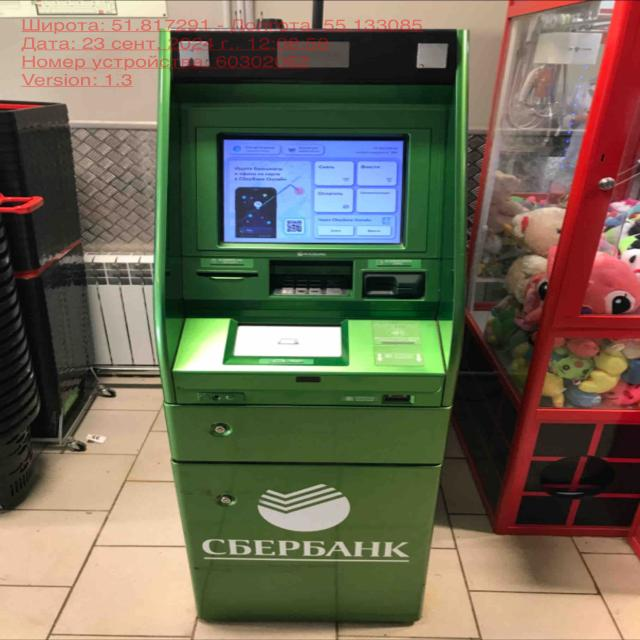bank: (143, 21, 459, 634)
